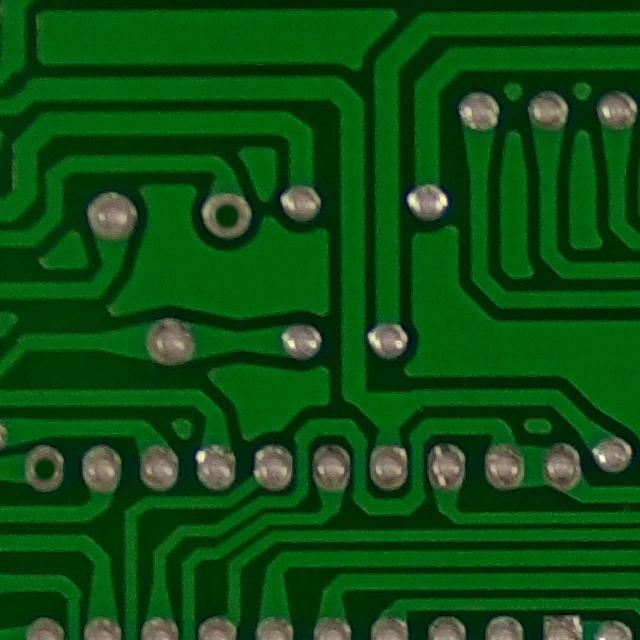missing_hole: (13, 438, 77, 504), (200, 183, 262, 250)
